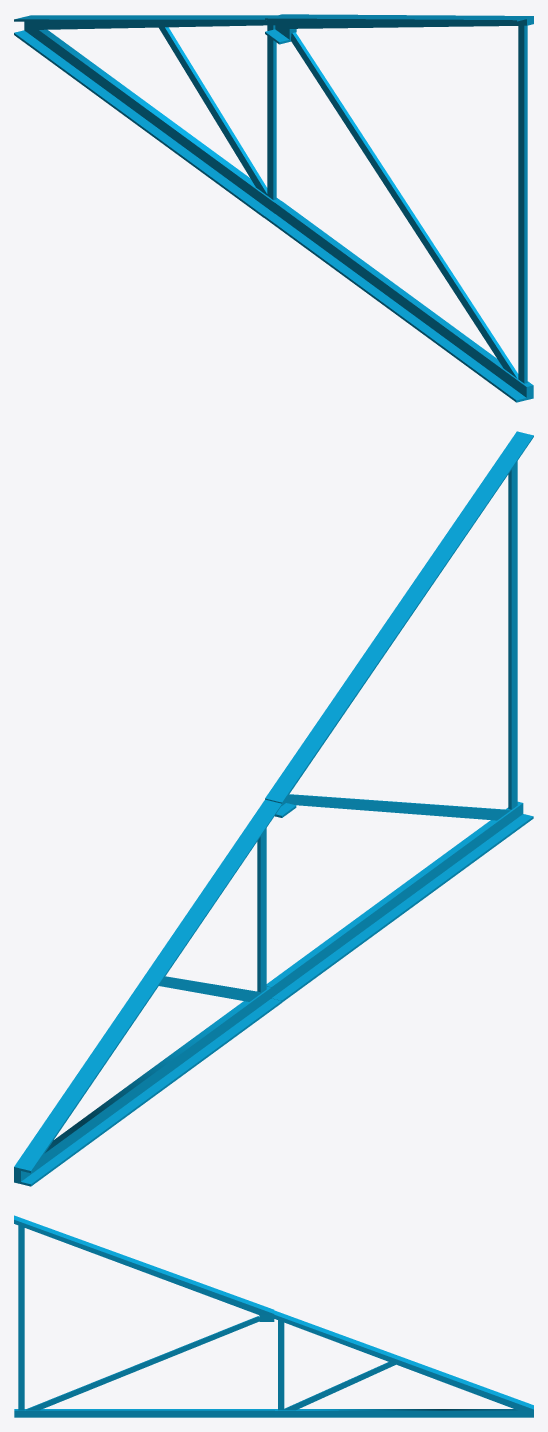
Rendered from Metal_FrameWork.fbx.
The picture shows the model from 3 angles, top to bottom: view 1: azimuth 30°, elevation 25°; view 2: azimuth 150°, elevation 25°; view 3: azimuth 270°, elevation 25°; orthographic projection. The views are drawn at different scales.
Parts seen in each view (by area): view 1: Metal_FrameWork; view 2: Metal_FrameWork; view 3: Metal_FrameWork.
Part boxes in pixels (box(x1,y1,x2,y2)): Metal_FrameWork: box(14, 14, 533, 402); Metal_FrameWork: box(14, 431, 533, 1186); Metal_FrameWork: box(14, 1215, 533, 1417).
Bounding box in the file's own units: 23.45 × 503 × 1197.
